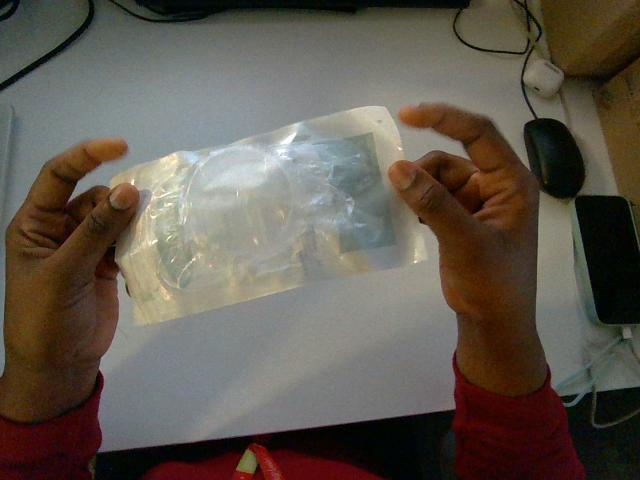gallipot: (112, 107, 425, 323)
